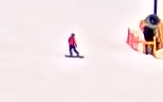snowboarder: (57, 29, 91, 64)
